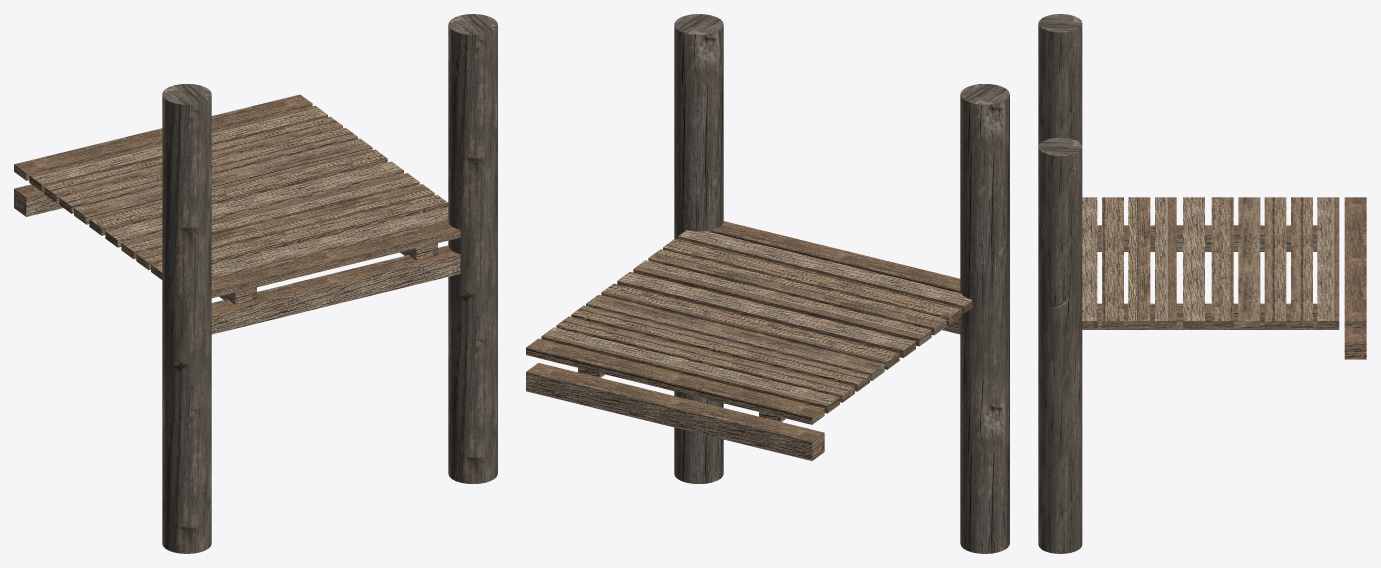
File: viga.fbx
The picture shows the model from 3 angles, left to right: view 1: azimuth 30°, elevation 25°; view 2: azimuth 150°, elevation 25°; view 3: azimuth 270°, elevation 25°; orthographic projection. The views are drawn at different scales.
Parts seen in each view (by area): view 1: Viga; view 2: Viga; view 3: Viga.
Part boxes in pixels (box(x1,y1,x2,y2)): Viga: box(14, 14, 497, 553); Viga: box(526, 14, 1009, 553); Viga: box(1038, 14, 1366, 553).
Size of the model in its own units: 460 by 600 by 449.
2 materials, 2 textured.
